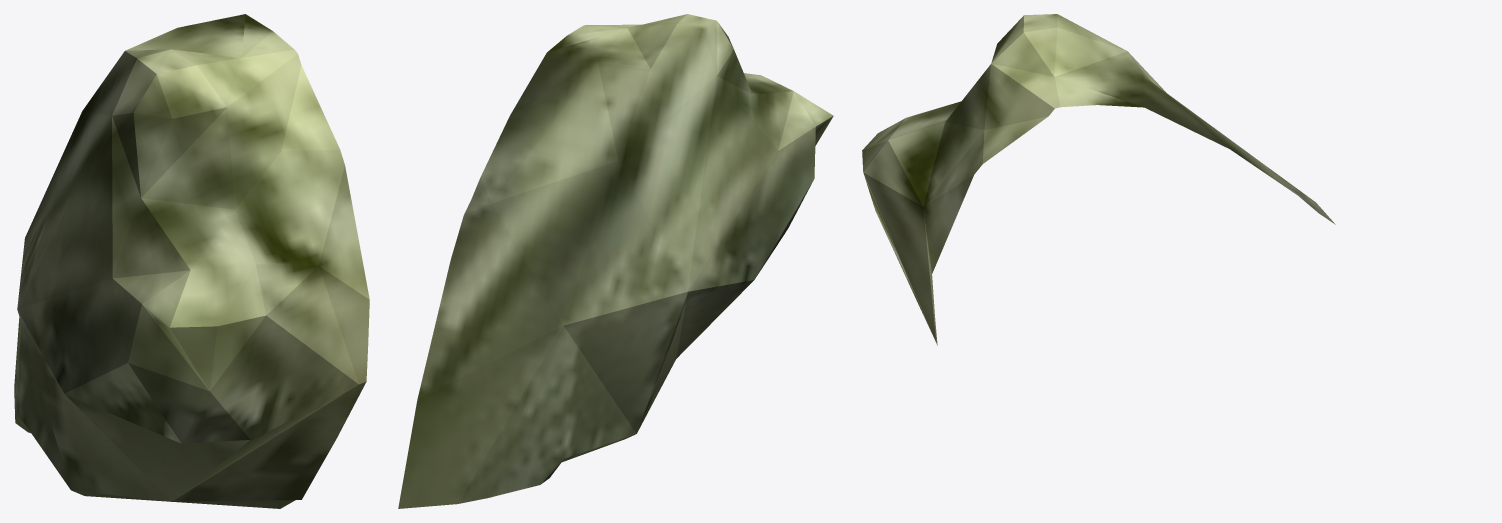
3 renders of one model, left to right at view 1: azimuth 30°, elevation 25°; view 2: azimuth 150°, elevation 25°; view 3: azimuth 270°, elevation 25°, orthographic. The views are drawn at different scales.
Size of the model in its own units: 0.5486 by 1.1 by 1.45.
Materials: 1 (1 with a texture image).
